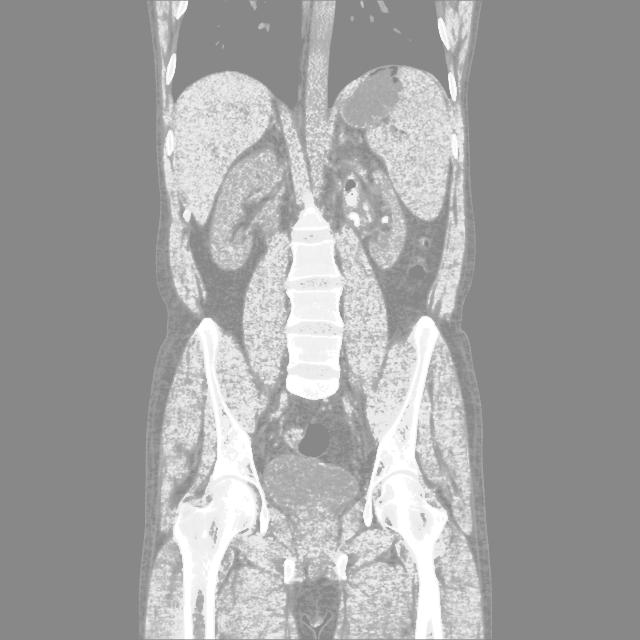STONE: (232, 156, 452, 257)
